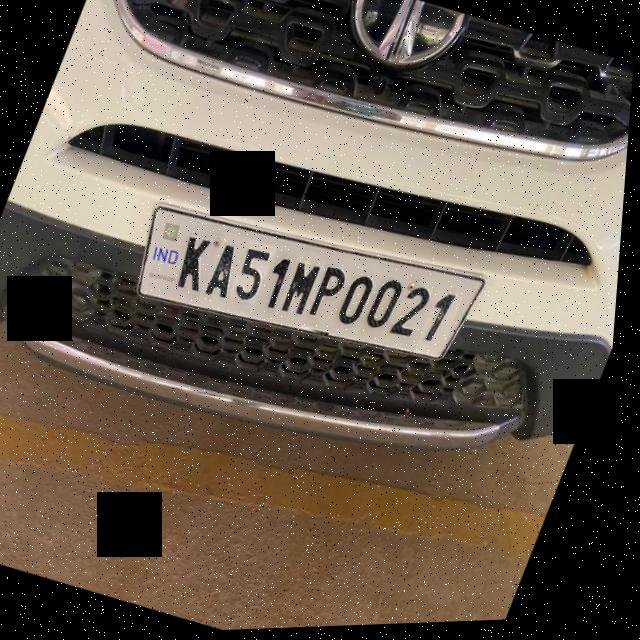0: (364, 277, 414, 347), (338, 270, 387, 333)
1: (418, 293, 469, 366), (256, 251, 303, 325)
5: (232, 241, 281, 309)
A: (201, 233, 255, 313)
K: (166, 224, 231, 305)
M: (278, 259, 332, 327)
P: (305, 261, 360, 340)
